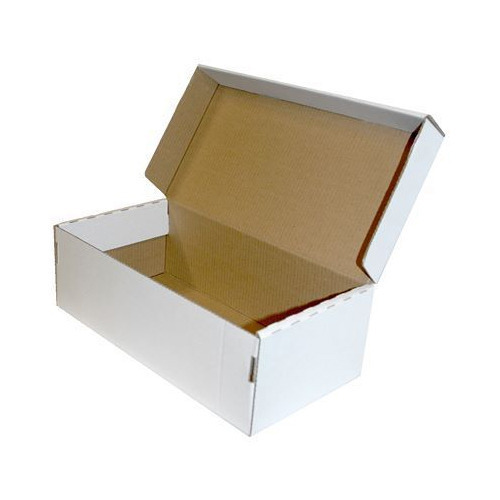Rec_Paper: (42, 45, 446, 440)
